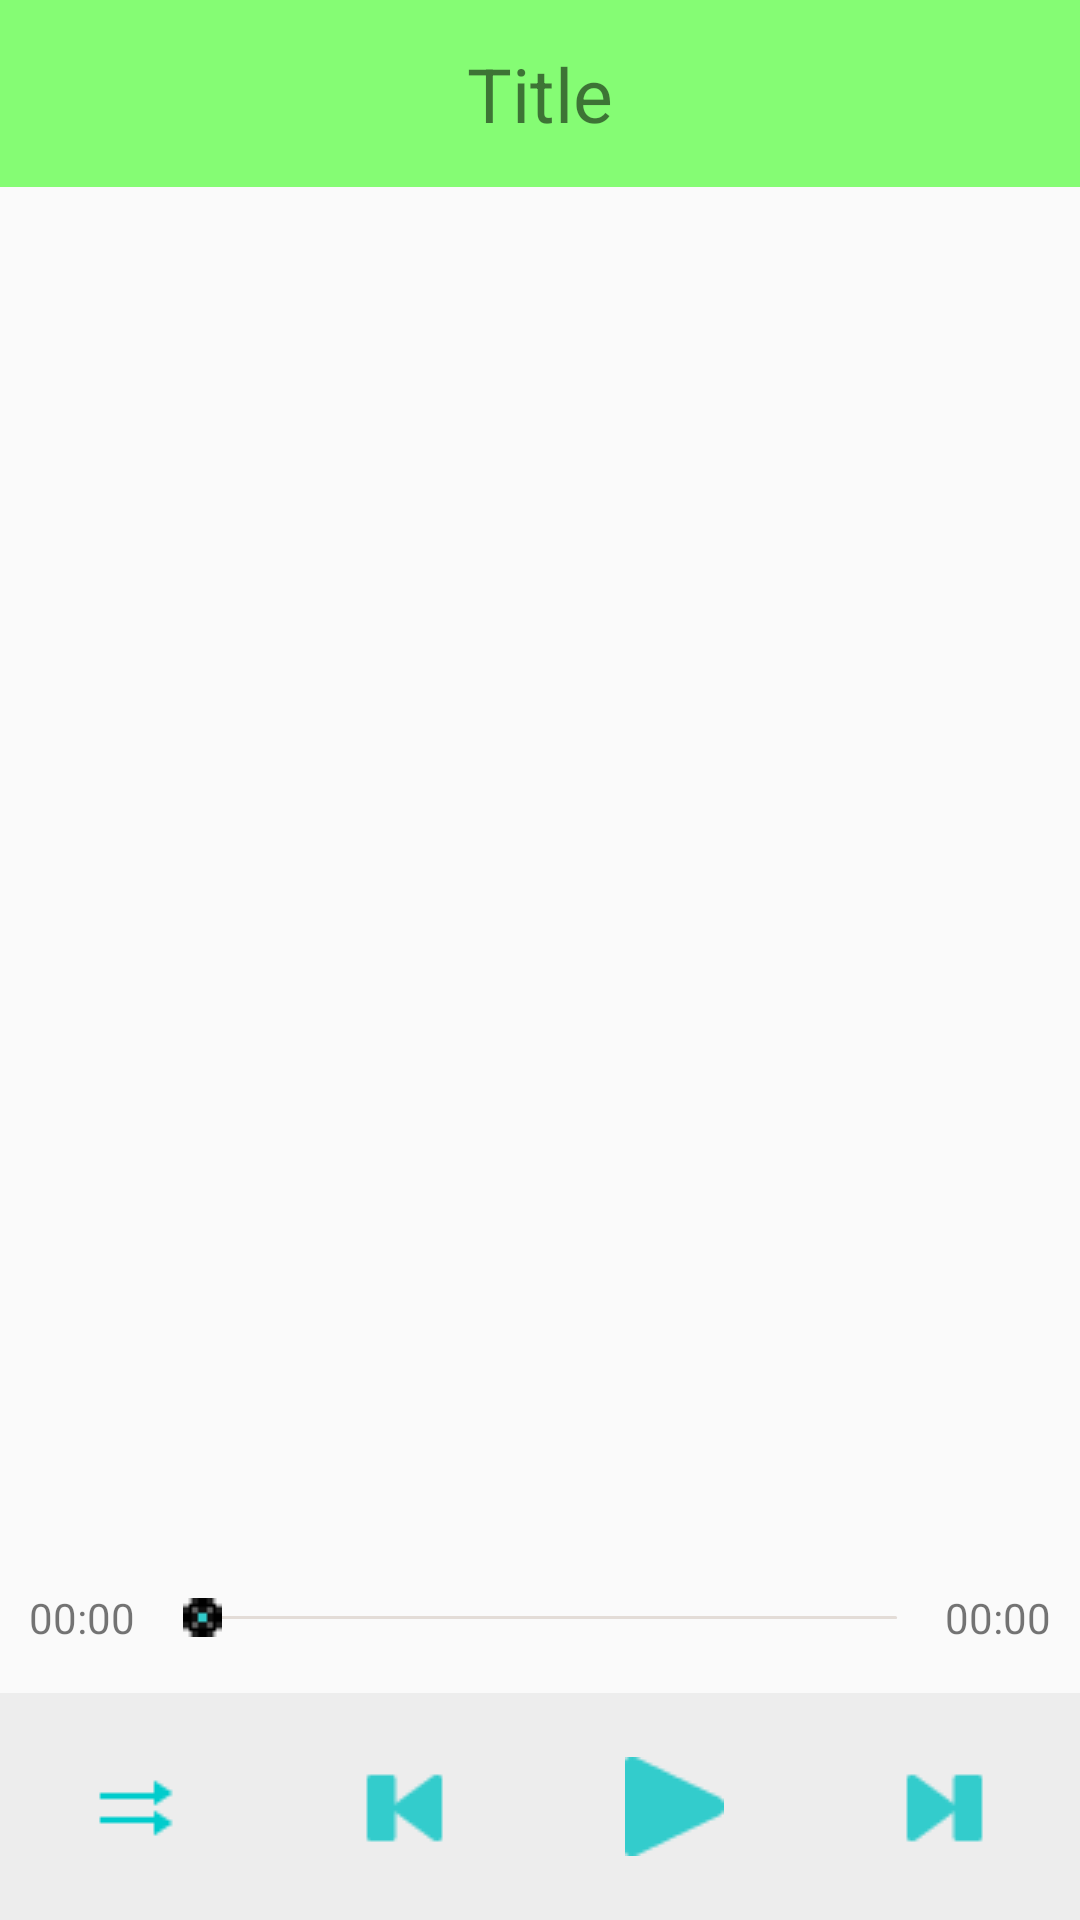

Named icons in this screenshot (1080px×1920px) and their centers, (x,y):
mode sequence: (136,1808)
next: (944,1808)
previous: (404,1808)
run: (674,1806)
